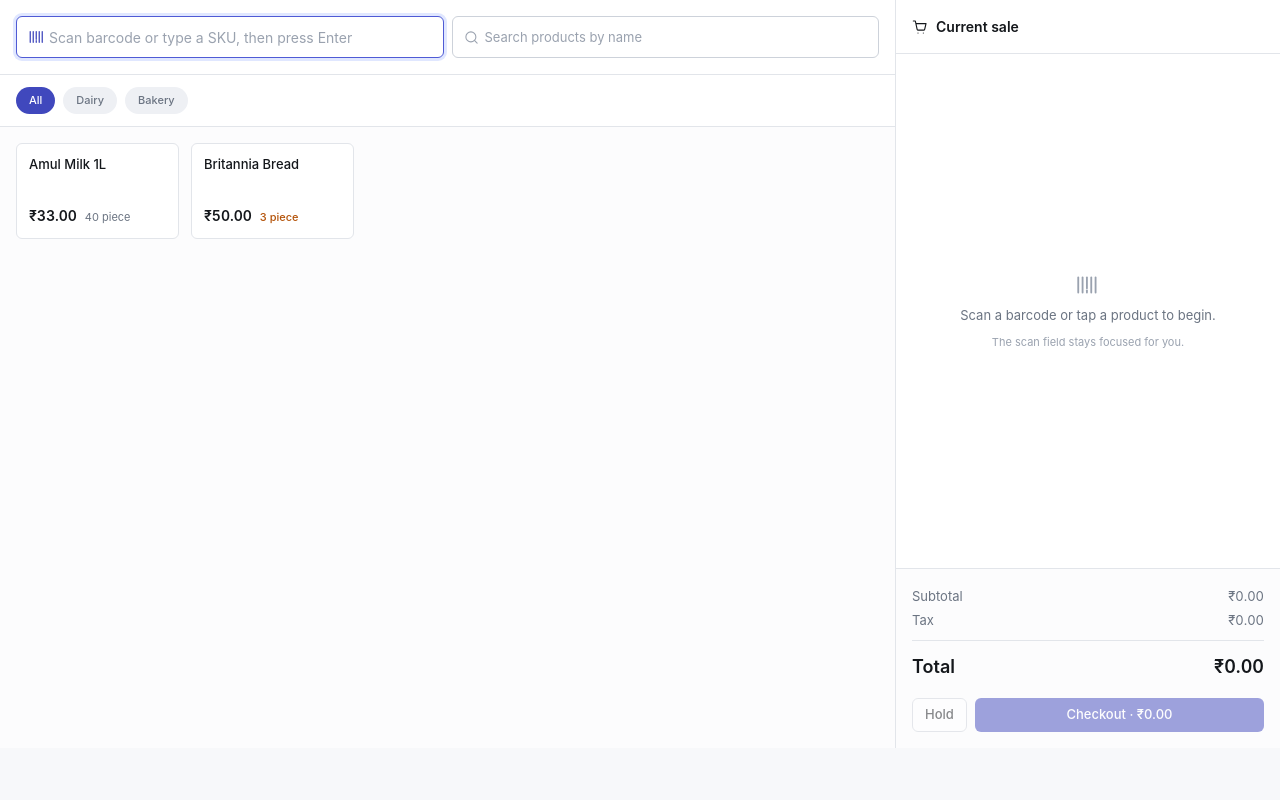
it: POS cart › removes a line when it is decremented to zero
The width and height of the screenshot is (1280, 800).
Step 1. Click the button "Amul Milk 1L ₹33.00 40 piece" → (98, 190), box [16,142,179,238]
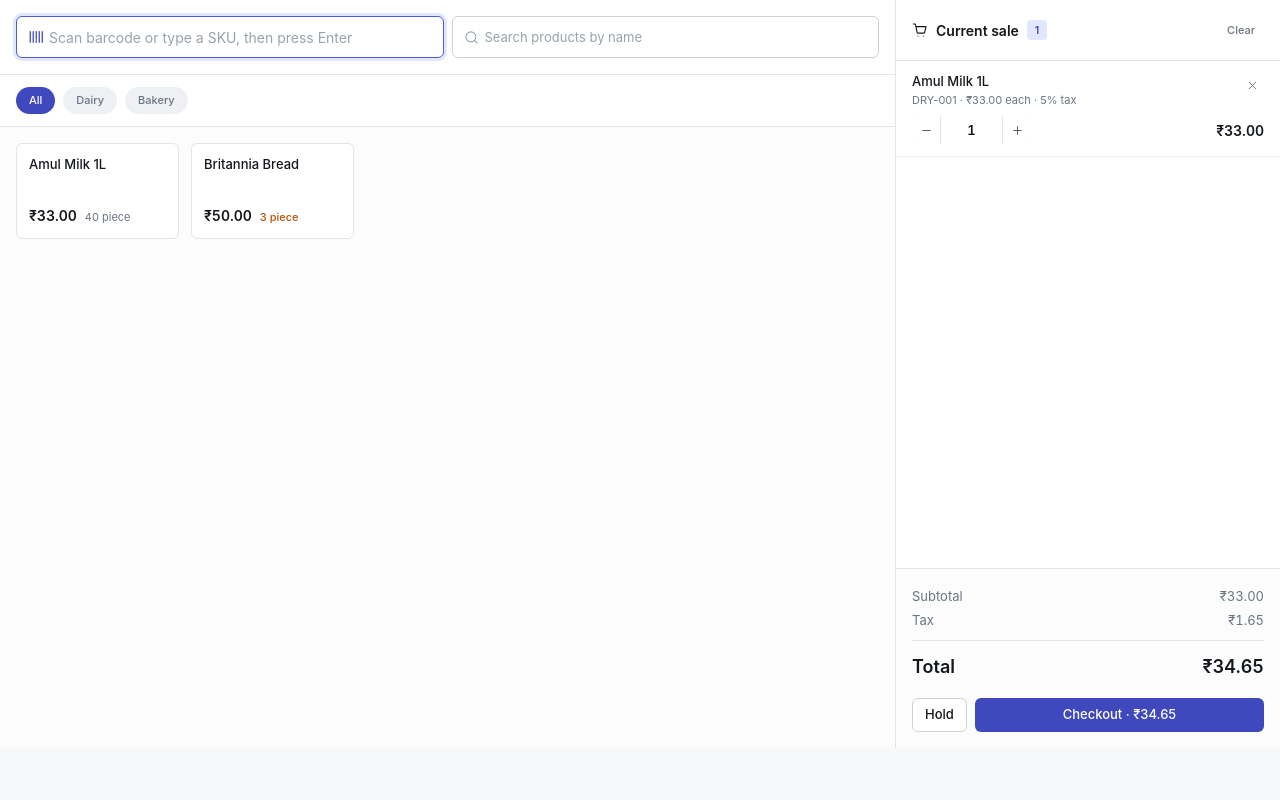
Step 2. Click the button named "Decrease quantity" → (926, 130), box [912,116,940,144]
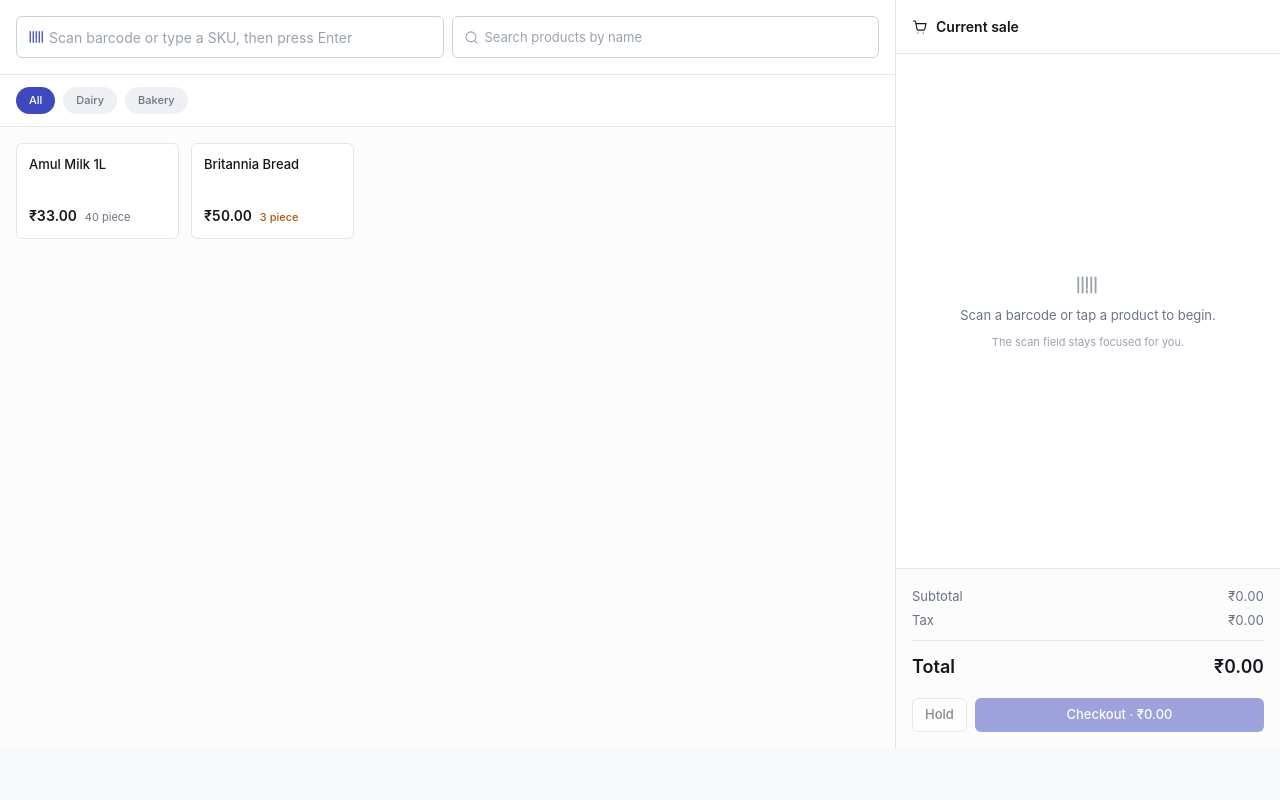
Check: the text "Scan a barcode or tap a product to begin." is shown, box [960,306,1216,326]
